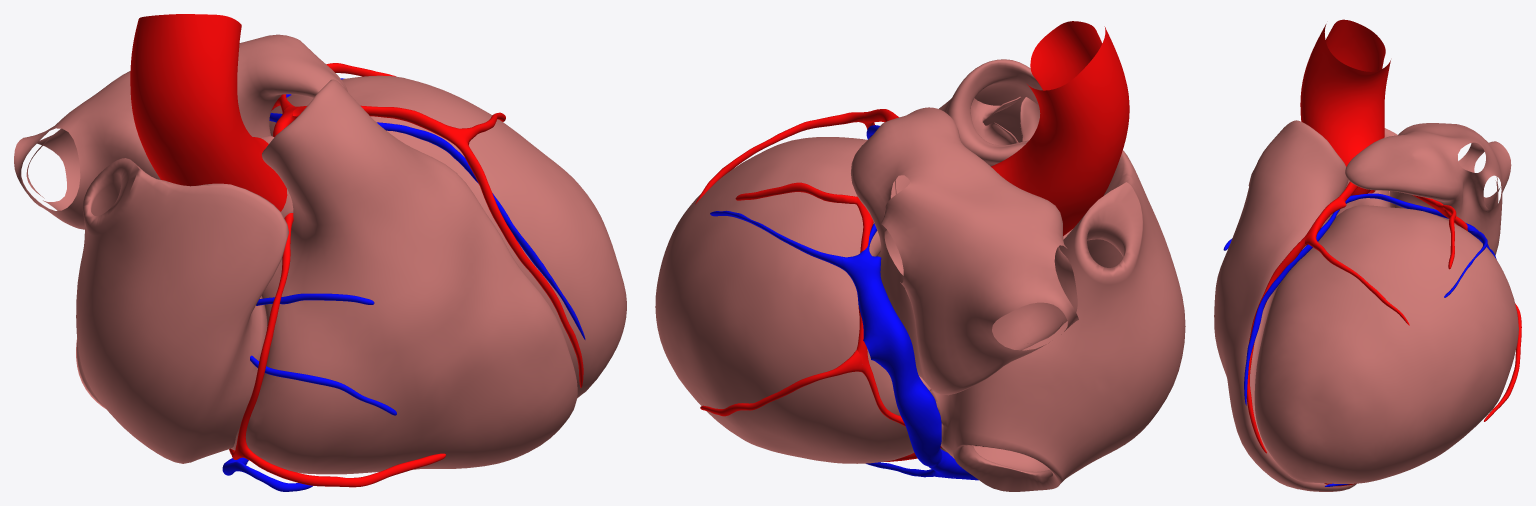
The model's file is coronary-circulation.glb.
3 views of the same model, side by side, from view 1: azimuth 30°, elevation 25°; view 2: azimuth 150°, elevation 25°; view 3: azimuth 270°, elevation 25° (orthographic). The views are drawn at different scales.
Visible parts, largest first — view 1: VH_F_right_ventricle, VH_F_right_cardiac_atrium, VH_F_left_ventricle, VH_F_ascending_aorta, VH_F_left_cardiac_atrium, VH_F_left_anterior_descending_artery, VH_F_right_coronary_artery, VH_F_great_cardiac_vein, VH_F_right_marginal_artery, VH_F_anterior_cardiac_vein, VH_F_small_cardiac_vein; view 2: VH_F_left_ventricle, VH_F_right_cardiac_atrium, VH_F_left_cardiac_atrium, VH_F_ascending_aorta, VH_F_coronary_sinus, VH_F_right_ventricle, VH_F_pulmonary_valve, VH_F_diagonal_branch_of_left_anterior_descending_artery, VH_F_posterior_left_ventricular_branch, VH_F_left_marginal_branch, VH_F_left_marginal_vein, VH_F_right_coronary_artery; view 3: VH_F_left_ventricle, VH_F_right_ventricle, VH_F_left_cardiac_atrium, VH_F_ascending_aorta, VH_F_great_cardiac_vein, VH_F_left_anterior_descending_artery, VH_F_diagonal_branch_of_left_anterior_descending_artery, VH_F_posterior_left_ventricular_branch, VH_F_aortic_valve, VH_F_left_circumflex_artery, VH_F_left_marginal_branch.
Part boxes in pixels (x1,y1,x2,y2): VH_F_right_ventricle: [231, 79, 577, 474]; VH_F_right_cardiac_atrium: [76, 158, 288, 463]; VH_F_left_ventricle: [269, 75, 626, 398]; VH_F_ascending_aorta: [130, 14, 287, 211]; VH_F_left_cardiac_atrium: [14, 34, 347, 229]; VH_F_left_anterior_descending_artery: [293, 105, 583, 387]; VH_F_right_coronary_artery: [229, 213, 293, 459]; VH_F_great_cardiac_vein: [269, 113, 585, 339]; VH_F_right_marginal_artery: [246, 451, 445, 487]; VH_F_anterior_cardiac_vein: [250, 293, 396, 415]; VH_F_small_cardiac_vein: [222, 457, 312, 491]; VH_F_left_ventricle: [655, 137, 930, 463]; VH_F_right_cardiac_atrium: [929, 150, 1185, 491]; VH_F_left_cardiac_atrium: [851, 107, 1078, 395]; VH_F_ascending_aorta: [991, 21, 1129, 236]; VH_F_coronary_sinus: [842, 256, 962, 478]; VH_F_right_ventricle: [939, 59, 1072, 452]; VH_F_pulmonary_valve: [970, 96, 1040, 145]; VH_F_diagonal_branch_of_left_anterior_descending_artery: [695, 112, 864, 204]; VH_F_posterior_left_ventricular_branch: [700, 350, 862, 416]; VH_F_left_marginal_branch: [735, 182, 856, 204]; VH_F_left_marginal_vein: [710, 210, 843, 269]; VH_F_right_coronary_artery: [856, 306, 905, 426]; VH_F_left_ventricle: [1254, 205, 1518, 483]; VH_F_right_ventricle: [1214, 120, 1356, 491]; VH_F_left_cardiac_atrium: [1345, 123, 1511, 255]; VH_F_ascending_aorta: [1300, 19, 1390, 193]; VH_F_great_cardiac_vein: [1244, 193, 1475, 405]; VH_F_left_anterior_descending_artery: [1246, 181, 1358, 453]; VH_F_diagonal_branch_of_left_anterior_descending_artery: [1305, 230, 1409, 325]; VH_F_posterior_left_ventricular_branch: [1484, 303, 1521, 421]; VH_F_aortic_valve: [1336, 180, 1390, 216]; VH_F_left_circumflex_artery: [1412, 195, 1467, 231]; VH_F_left_marginal_branch: [1442, 205, 1456, 269].
Bounding box in the file's own units: 0.1425 × 0.1331 × 0.1025.
